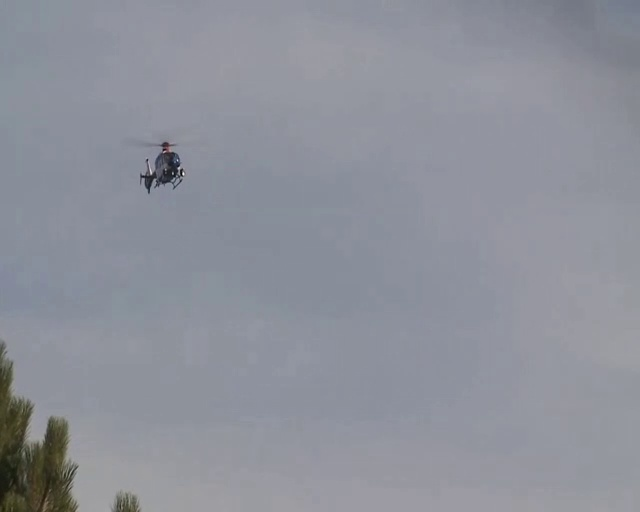HELICOPTER: (125, 138, 190, 193)
